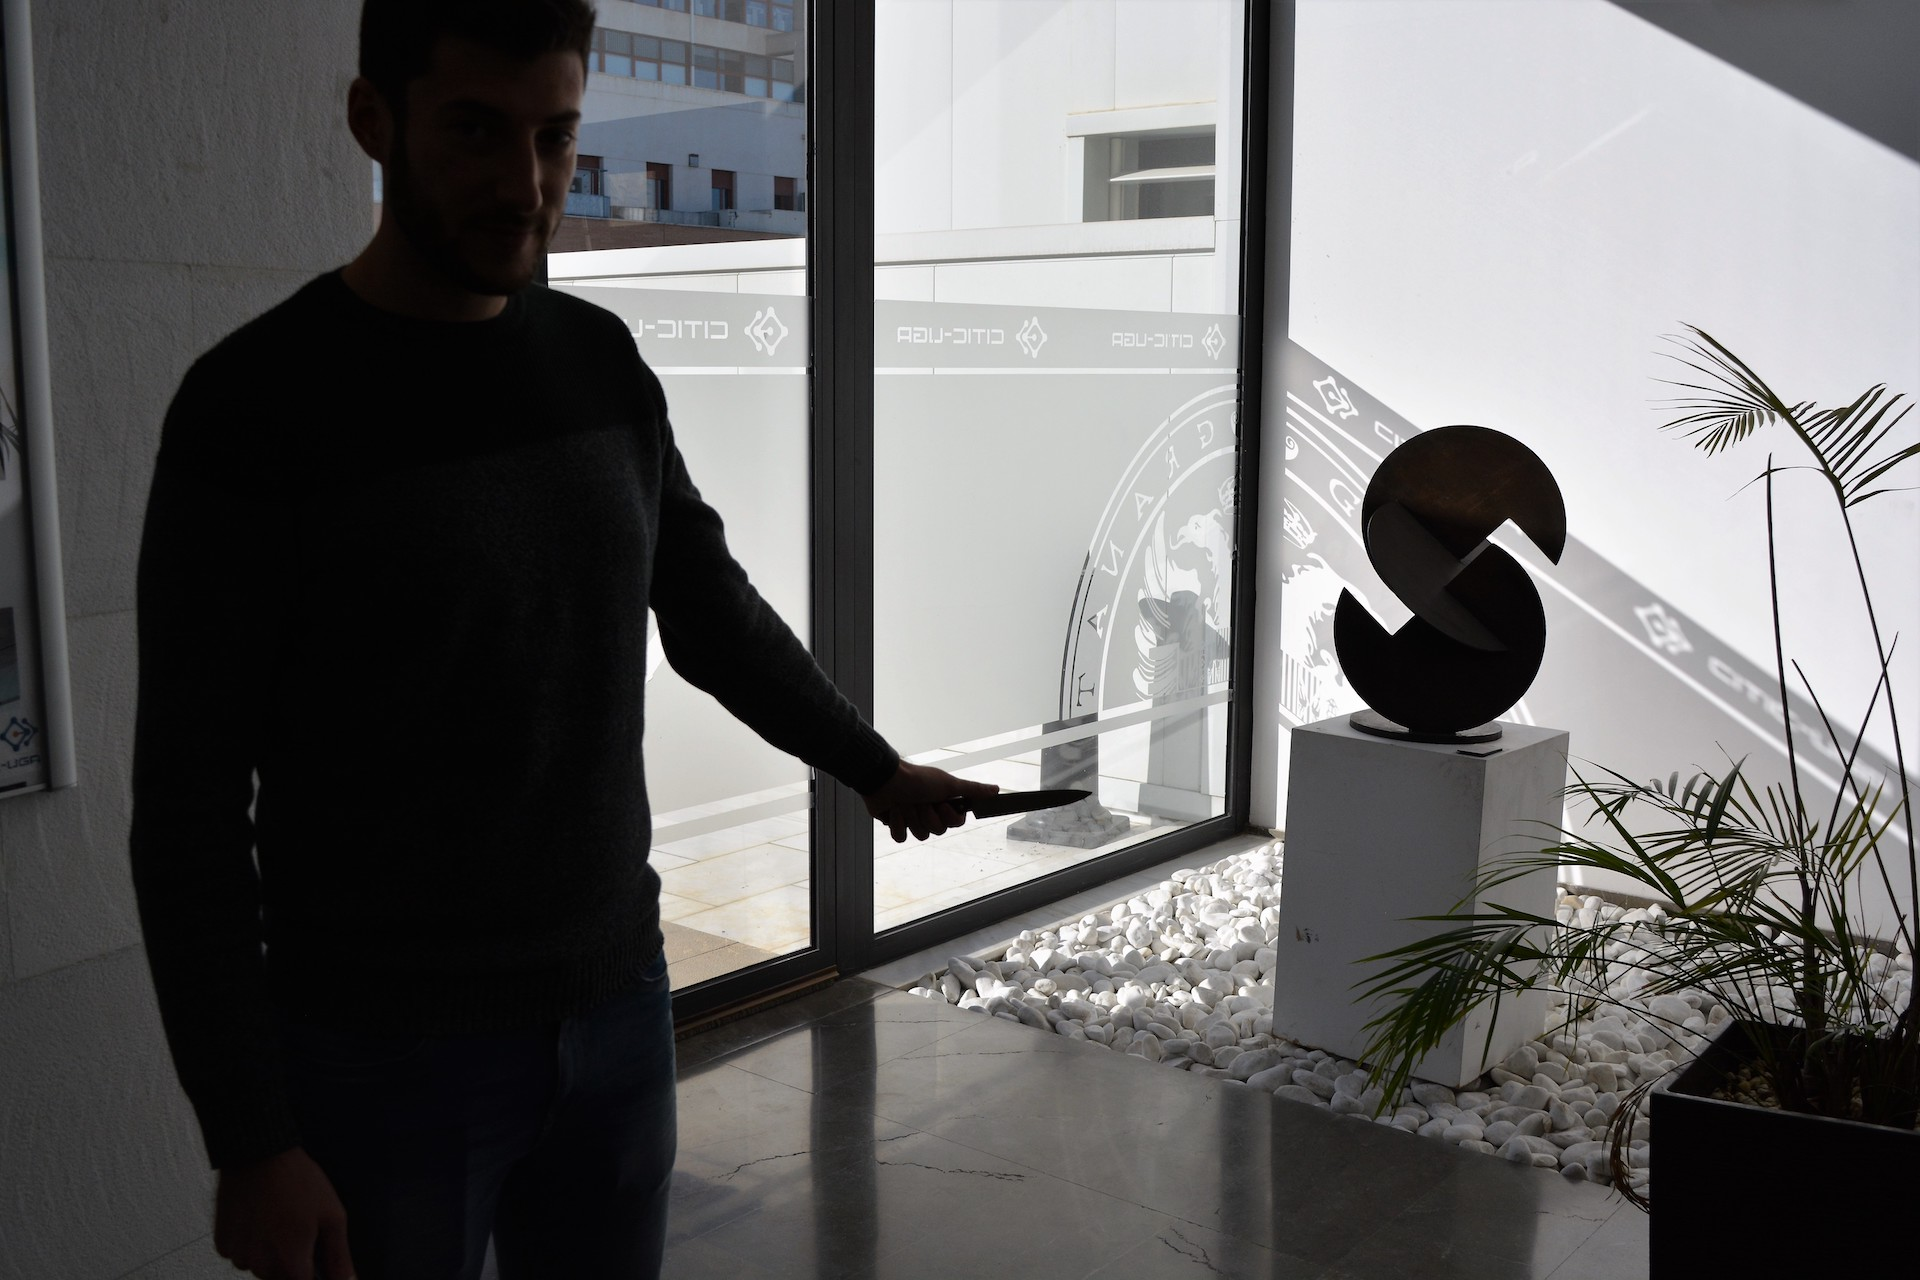knife: (929, 776, 1100, 836)
